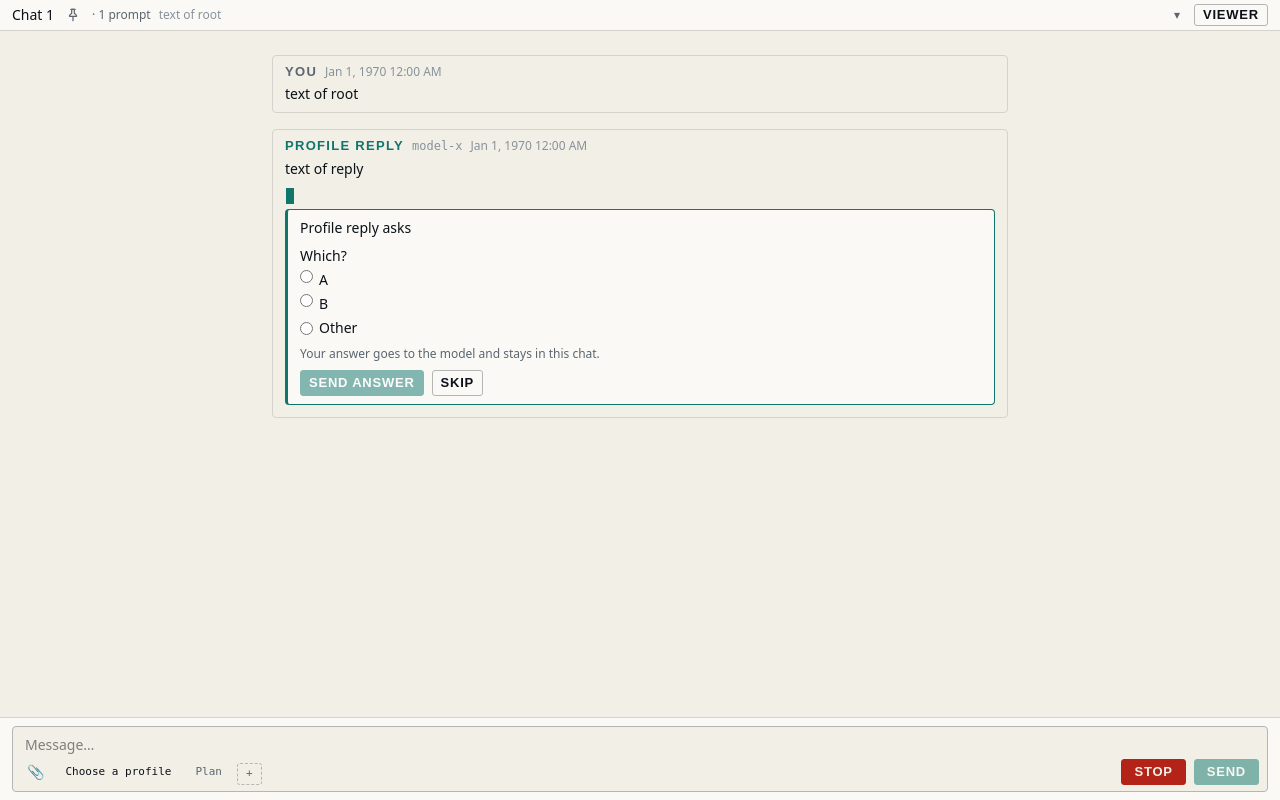
Thread question and plan cards › drops the card when the server says it is already settled (404), instead of leaving a dead card with a retry error
Click the button "Skip" at (457, 383), box [432,370,483,396]
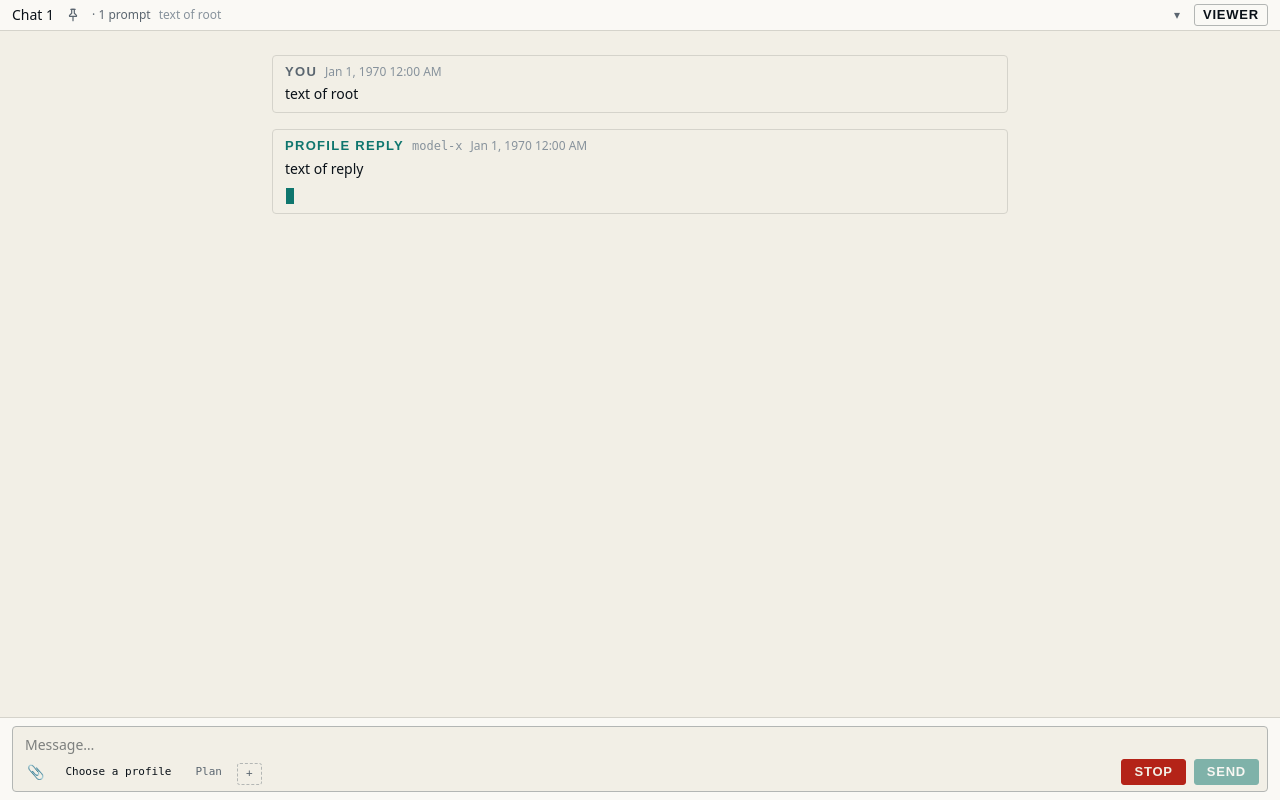
Check: the element with test id "ask-card-ask-1" is gone
